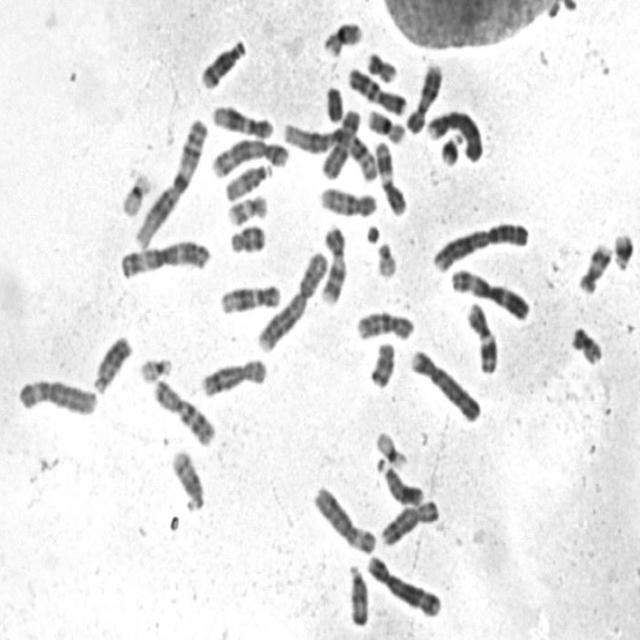A1: (130, 114, 212, 250), (280, 116, 379, 182)
A2: (253, 247, 329, 355), (428, 217, 532, 274)
A3: (448, 264, 532, 324), (116, 236, 212, 282)
B4: (407, 345, 482, 424), (423, 105, 485, 164)
B5: (364, 551, 443, 618), (208, 134, 291, 180)
C10: (352, 305, 416, 343), (315, 182, 378, 218)
C11: (372, 136, 410, 218), (464, 298, 500, 376)
C12: (209, 100, 276, 141), (215, 278, 283, 316)
C6: (310, 483, 377, 554), (15, 373, 100, 417)
C7: (150, 374, 217, 447), (344, 62, 408, 117)
C8: (377, 496, 441, 548), (197, 354, 268, 398)
C9: (402, 60, 443, 135), (317, 221, 349, 306)
D13: (90, 332, 134, 396), (374, 456, 424, 507)
D14: (198, 36, 248, 91), (168, 446, 206, 514)
D15: (221, 158, 273, 202), (344, 560, 370, 628)
E16: (319, 16, 365, 59), (364, 105, 407, 146)
E17: (574, 238, 615, 296), (223, 190, 270, 228)
E18: (365, 338, 398, 390), (226, 222, 268, 255)
F19: (117, 168, 153, 218), (374, 429, 409, 469)
F20: (566, 321, 606, 366), (362, 48, 398, 84)
G21: (610, 228, 636, 272), (436, 130, 464, 168)
G22: (136, 352, 174, 385), (373, 238, 399, 280)
X: (318, 105, 362, 180)
Y: (322, 81, 345, 123)
